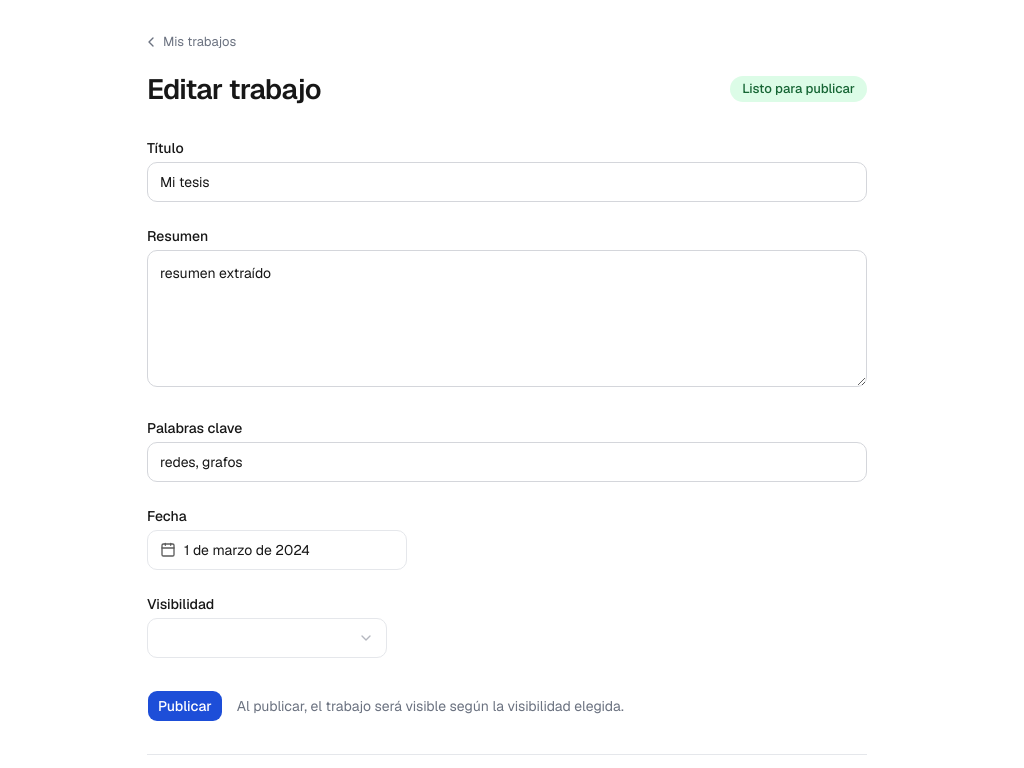
Scenario: editar page › shows Restaurar only for fields with unsaved changes
This screenshot has width=1024, height=768.
Replace the text in the text box labelled "Resumen" with "resumen editado" at {"x": 507, "y": 318}, box [147,250,867,387]
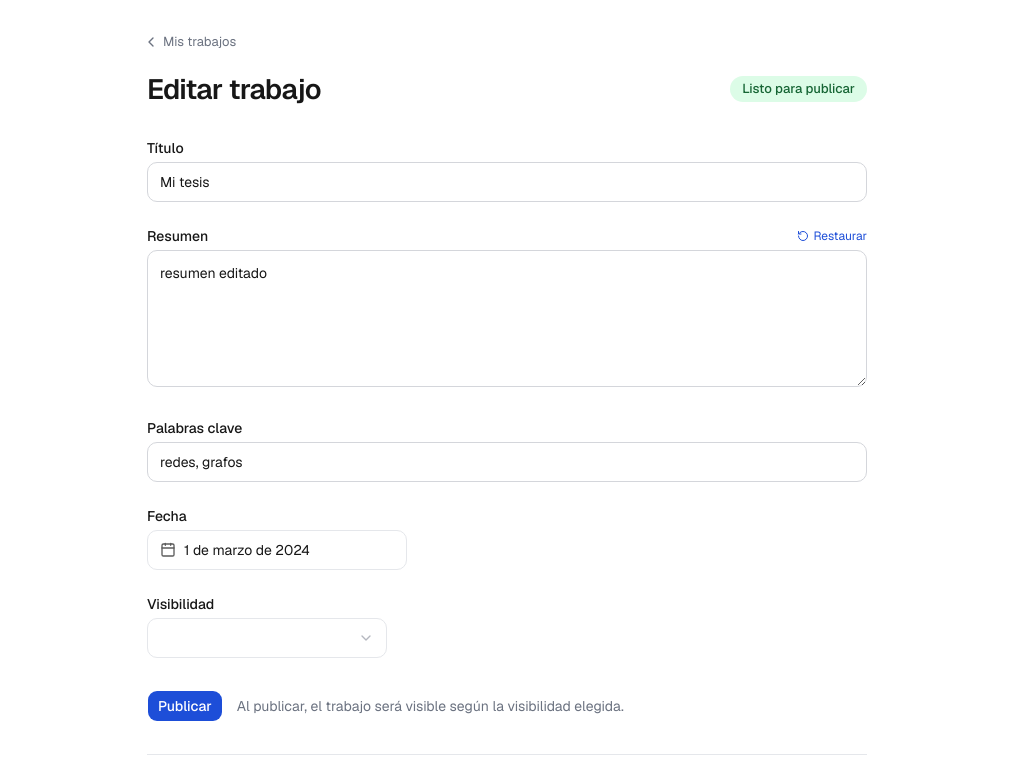
Replace the text in the field labelled "Palabras clave" with "editado" at {"x": 507, "y": 462}, box [147,442,867,482]
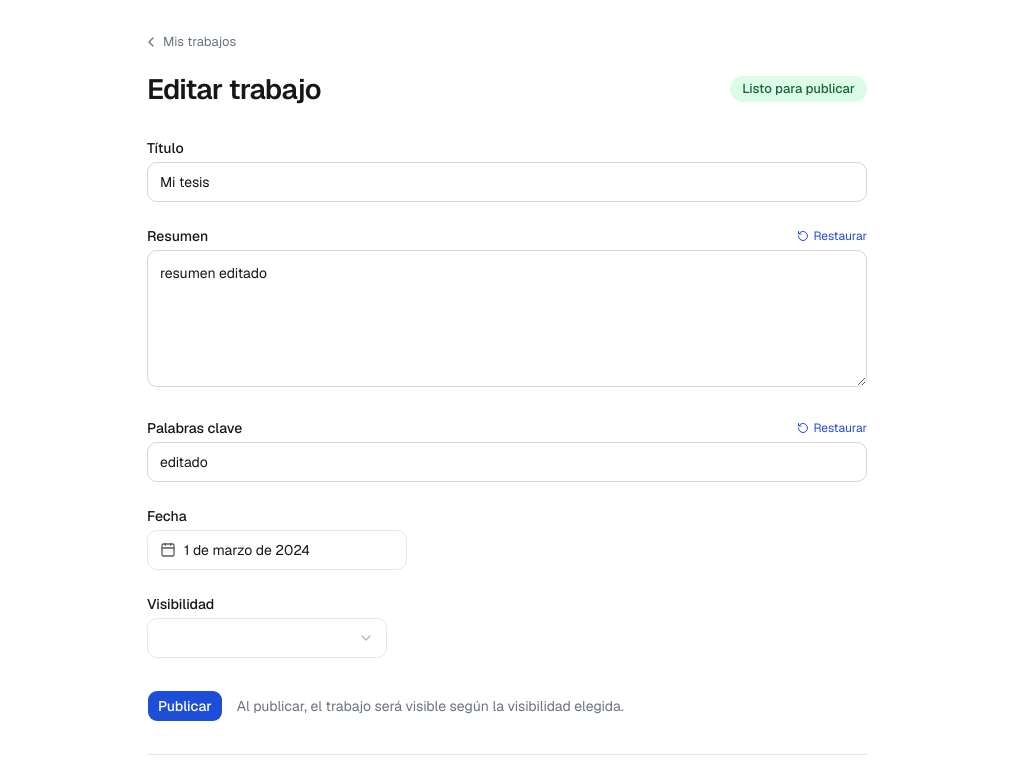
Expected: the button with test id "restore-abstract" is shown, [797,228,867,244]
Expected: the button with test id "restore-keywords" is shown, [797,420,867,436]
